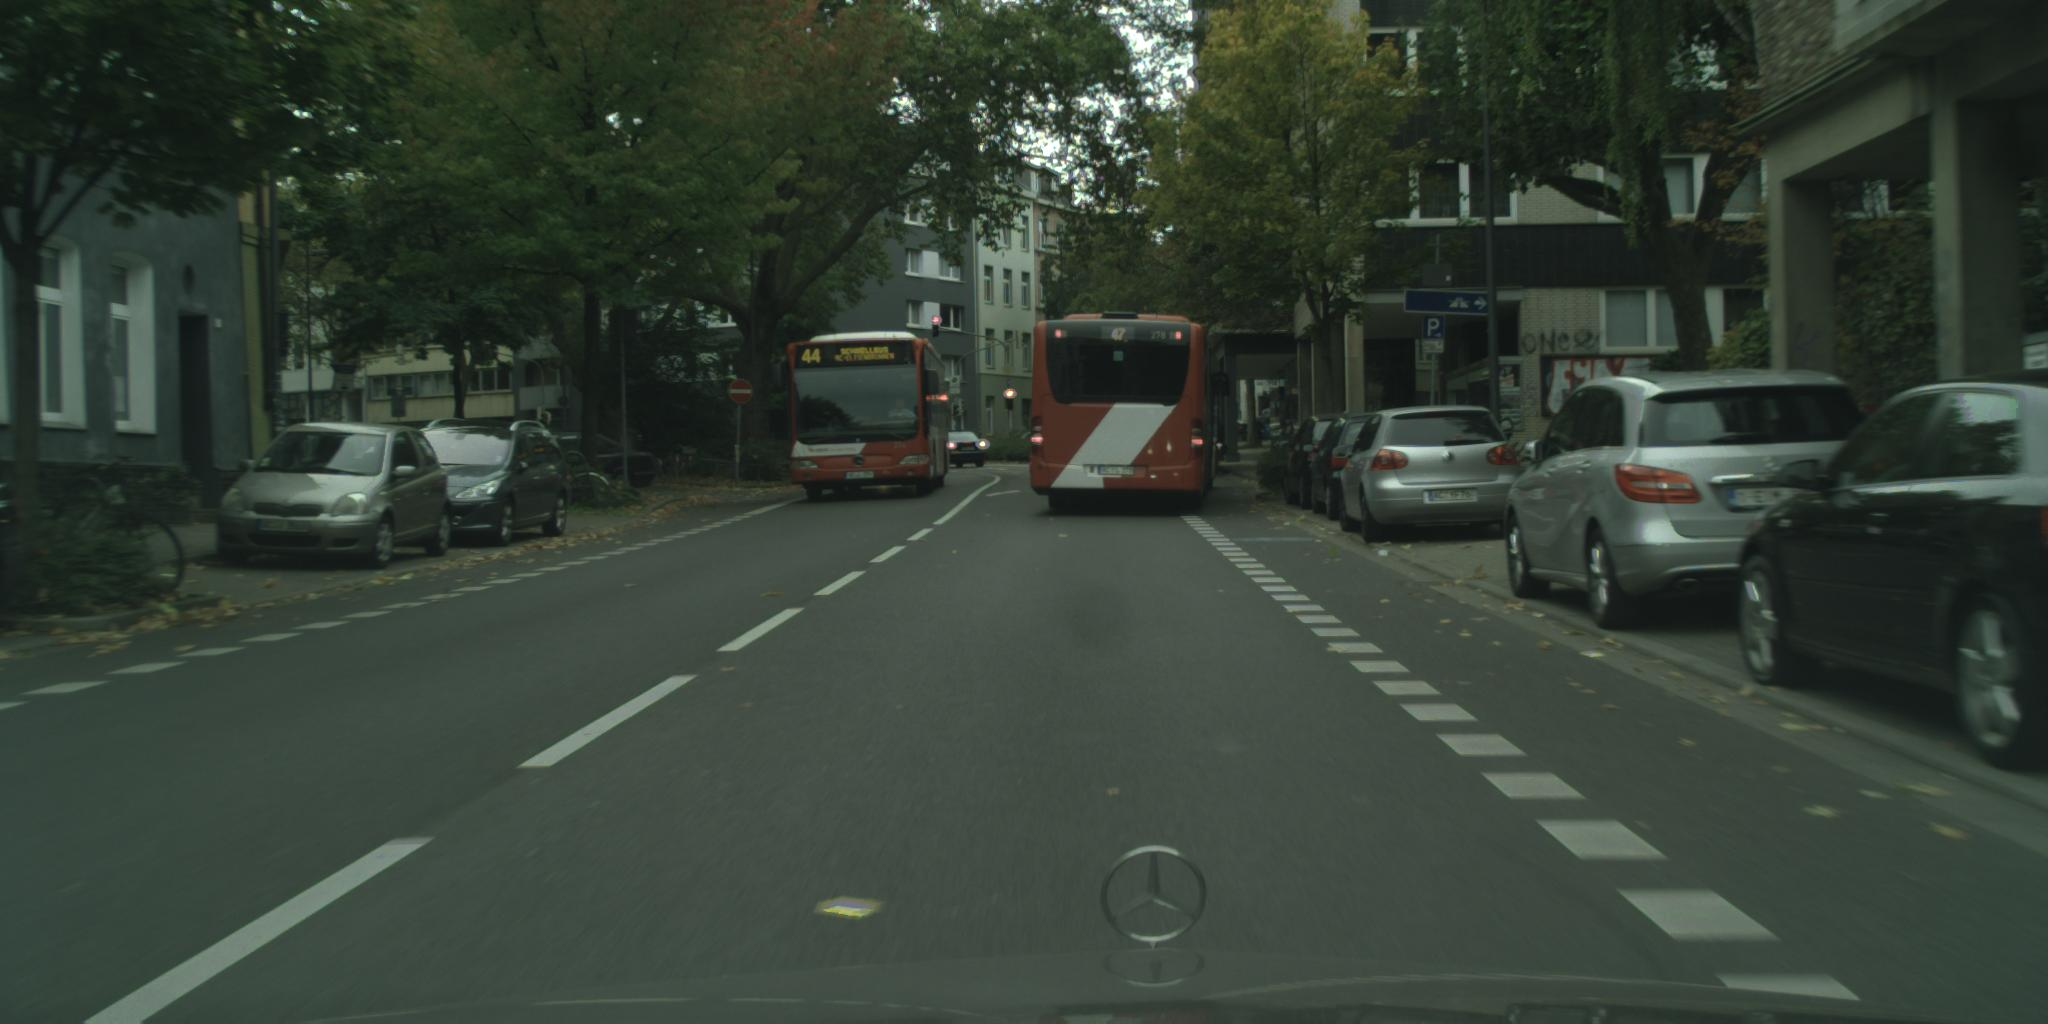bicycle: (51, 455, 185, 594)
bus: (1031, 313, 1230, 516), (788, 330, 950, 500)
car: (1732, 370, 2048, 773), (1503, 370, 1880, 628), (217, 424, 453, 569), (1331, 405, 1518, 542), (408, 418, 573, 547), (1304, 413, 1394, 522), (1283, 414, 1357, 511), (542, 432, 661, 492), (944, 430, 991, 468)
